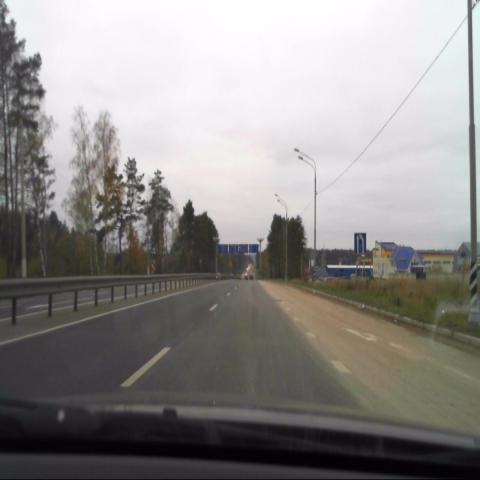5_15_5: (353, 234, 367, 256)
